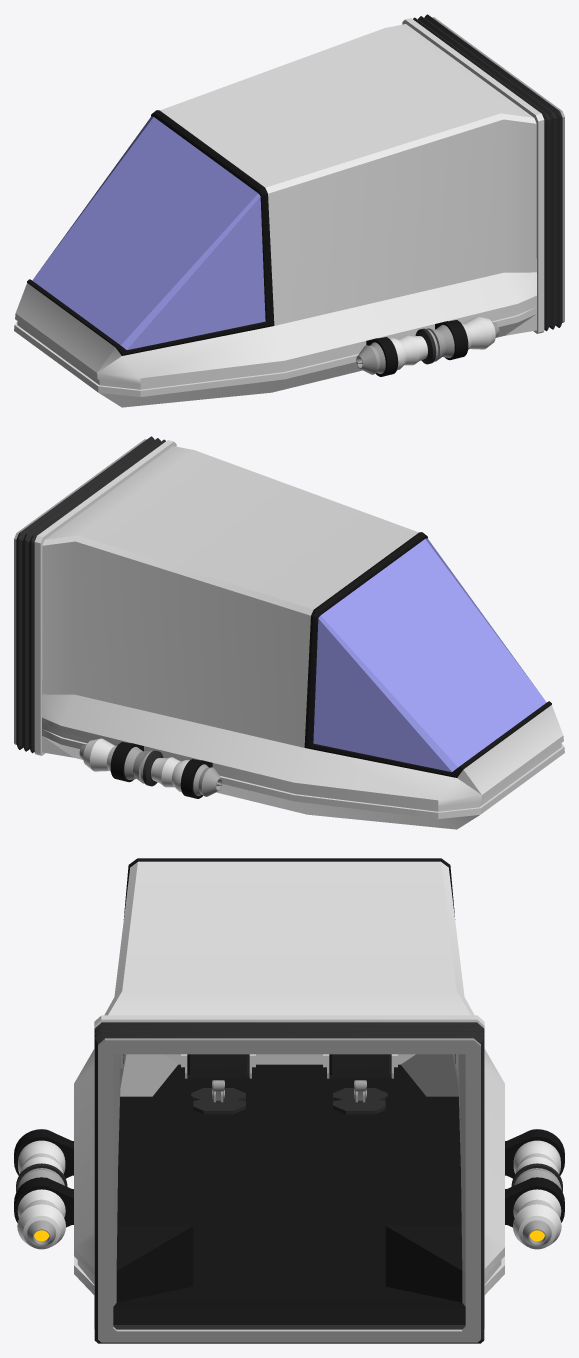
The model's file is spaceShuttle.fbx.
3 views of the same model, one above another, from view 1: azimuth 30°, elevation 25°; view 2: azimuth 150°, elevation 25°; view 3: azimuth 270°, elevation 25° (orthographic). The views are drawn at different scales.
Parts seen in each view (by area): view 1: spaceShuttle.EXPORT; view 2: spaceShuttle.EXPORT; view 3: spaceShuttle.EXPORT.
Part boxes in pixels (x1,y1,x2,y2): spaceShuttle.EXPORT: (14,14,564,407); spaceShuttle.EXPORT: (14,436,564,829); spaceShuttle.EXPORT: (14,858,564,1343).
Bounding box in the file's own units: 751 × 359 × 564.
